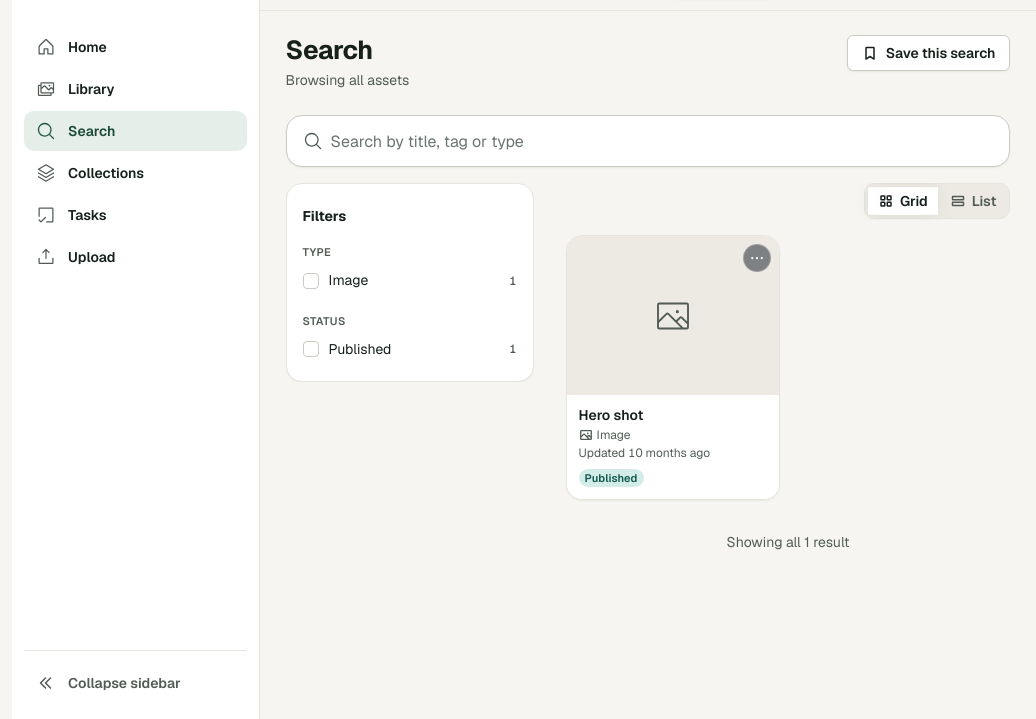
Test: SearchPage › keeps the URL in sync with what is typed (debounced) and with the facets
expect the text "Hero shot" is shown: met, box [579,406,643,424]
Type "hero" into the search field named "Search assets" at (664, 141), box [331,116,997,166]
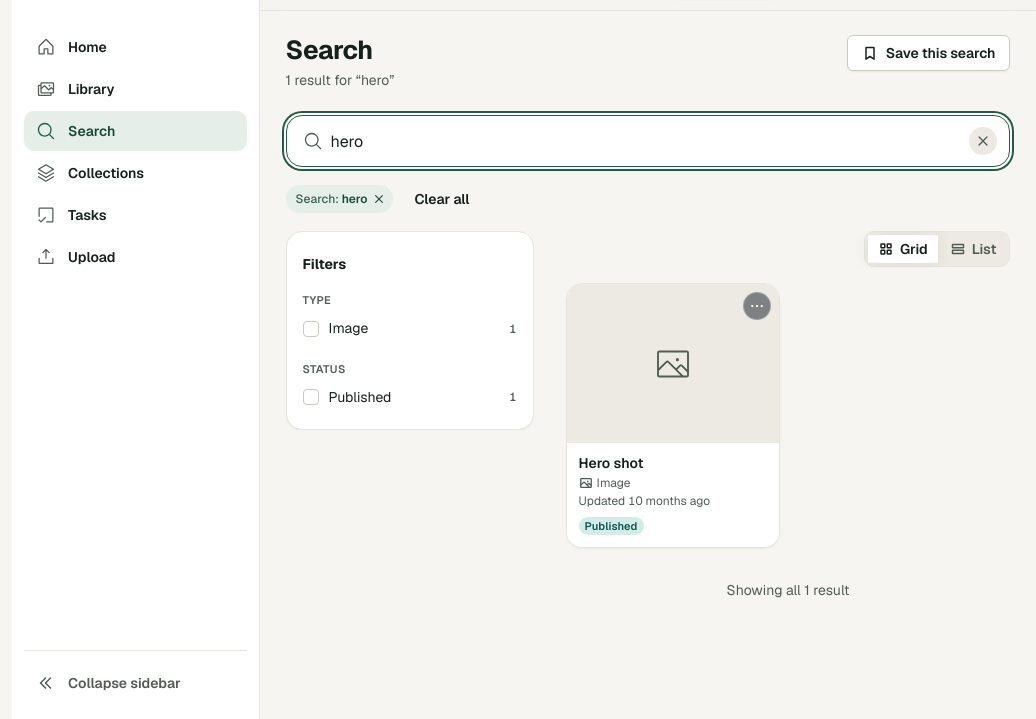
Click the checkbox labelled "Image 1" at (311, 329), box [303,321,319,337]
(page scrolled)
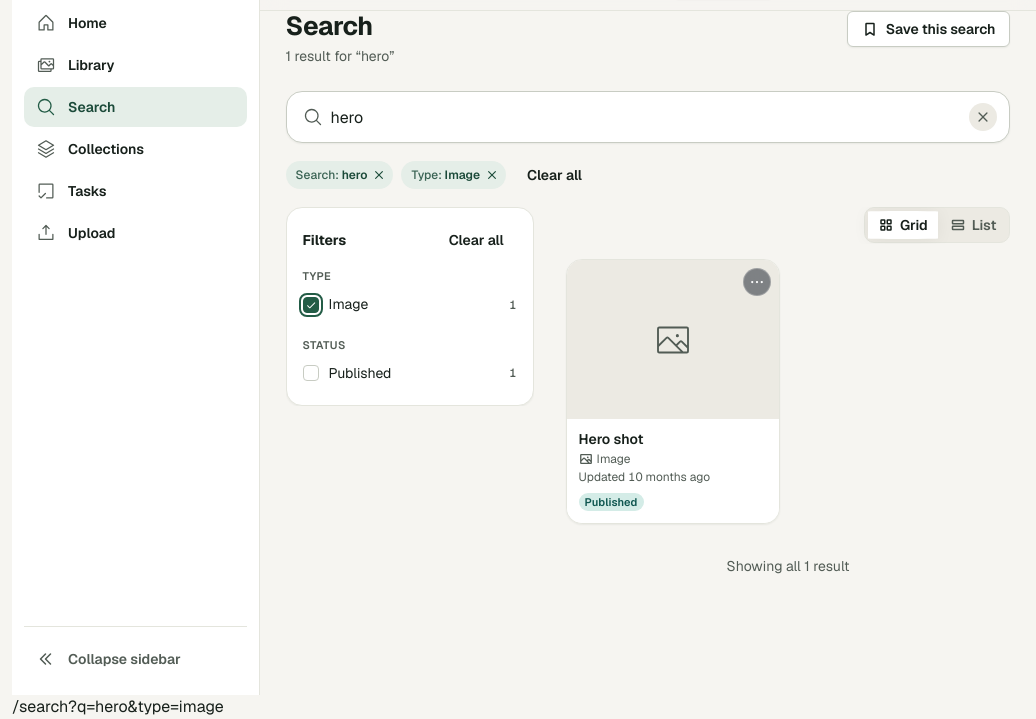
expect the text with test id "location" reads "/search?q=hero&type=image": met, box [12,696,224,717]
